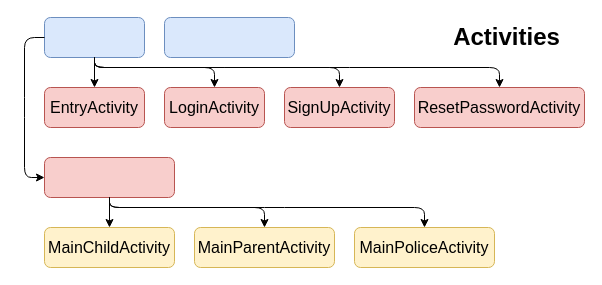
Image size: 602x285. Some labels were removed from this diagram. The box of each missing label's shape, as (x1, y1, x2, y2) in pixels:
BaseActivity: (44, 16, 144, 58)
MainBaseActivity: (44, 156, 174, 198)
OnBootReceiver: (164, 16, 294, 58)
